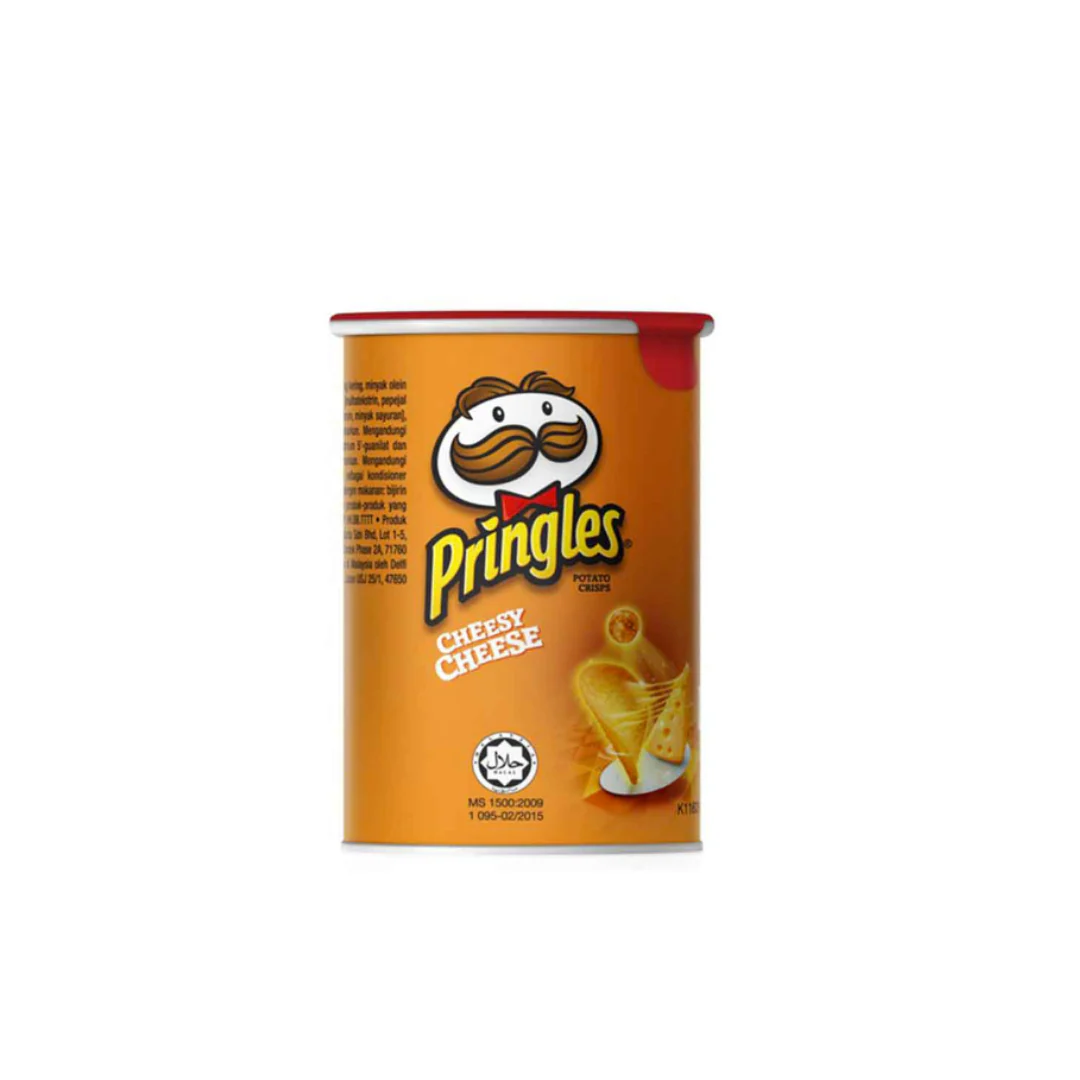non-toxic_waste: (340, 299, 699, 868)
